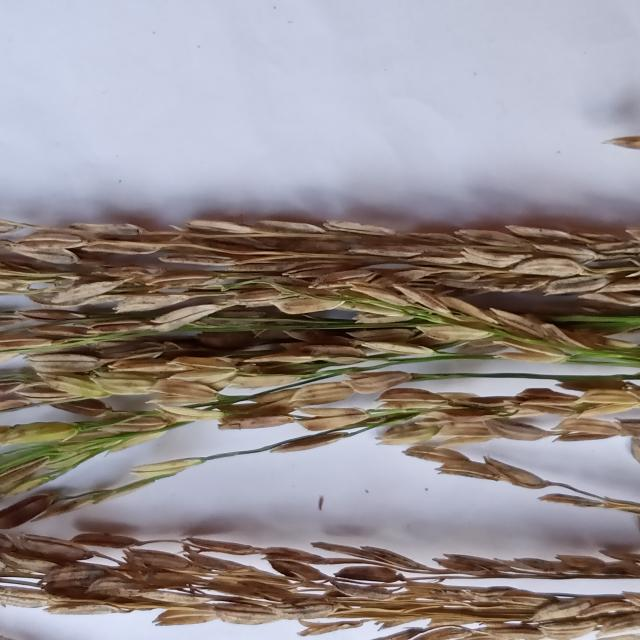Neck_Blast: (0, 306, 640, 537), (0, 206, 640, 375), (0, 532, 640, 640)
